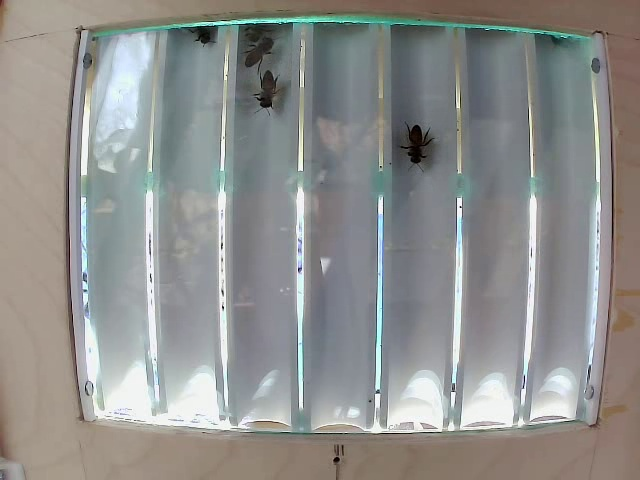bee: (394, 105, 430, 174), (244, 71, 285, 116), (241, 39, 276, 74)
